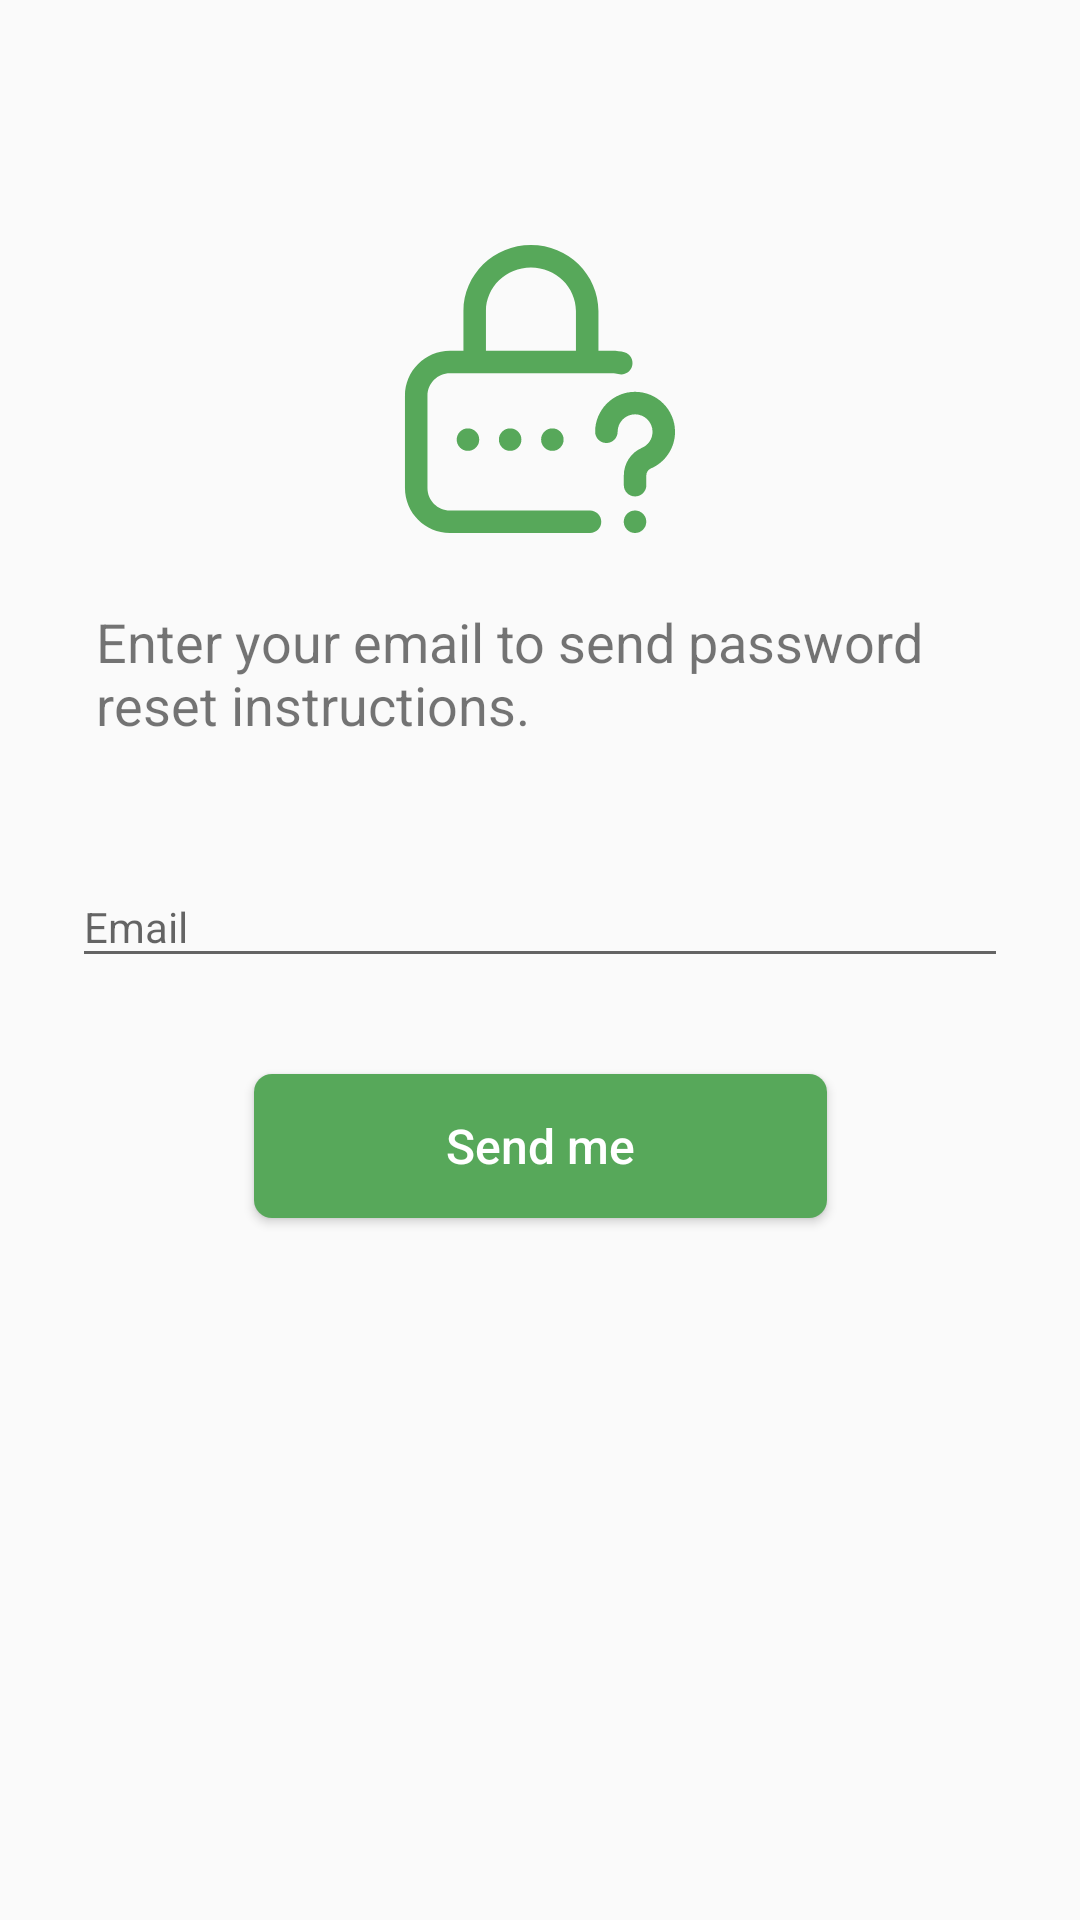

Locate icon controls on the screen. Image size 1080 × 1920, boxes as (x1, y1, x2, y2).
forgot: (405, 245, 675, 533)
